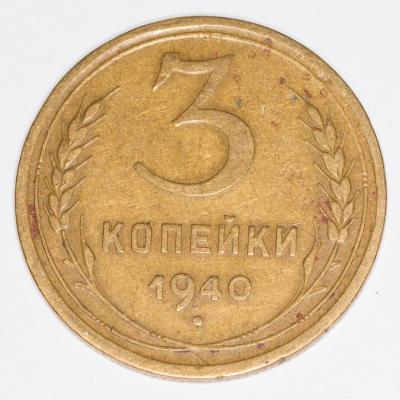numismatics: (16, 17, 386, 378)
